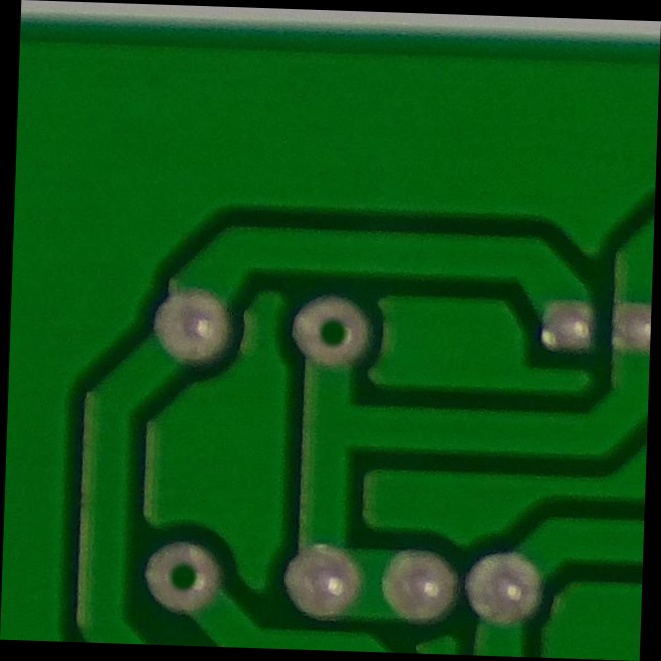missing_hole: (285, 284, 376, 378)
